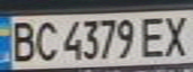3: (78, 17, 103, 61)
4: (60, 17, 81, 62)
7: (97, 16, 118, 60)
9: (115, 16, 139, 60)
B: (3, 18, 39, 63)
C: (30, 18, 60, 62)
E: (136, 12, 172, 60)
X: (157, 11, 193, 58)
